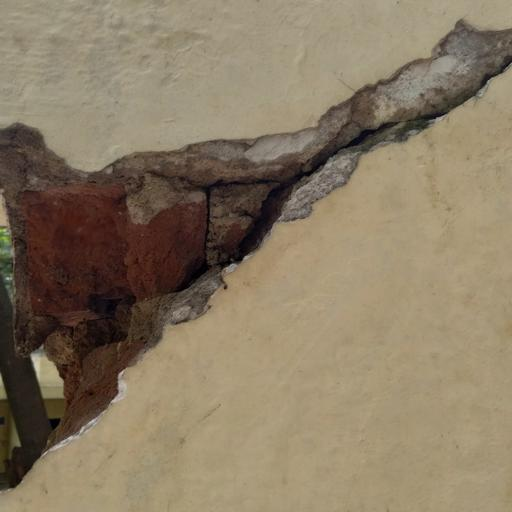spalling: (0, 0, 509, 512)
